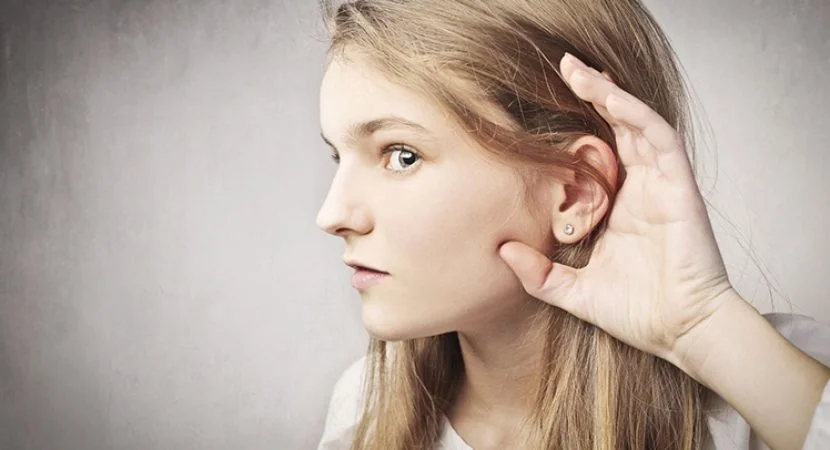Humano: (311, 1, 828, 450)
